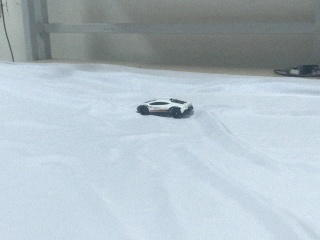toy_car: (137, 98, 194, 118)
